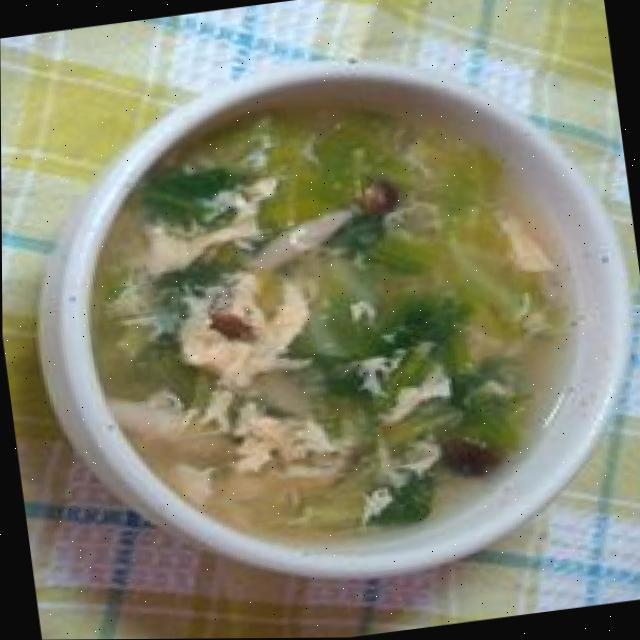汤锅炖物: (1, 154, 623, 640)
